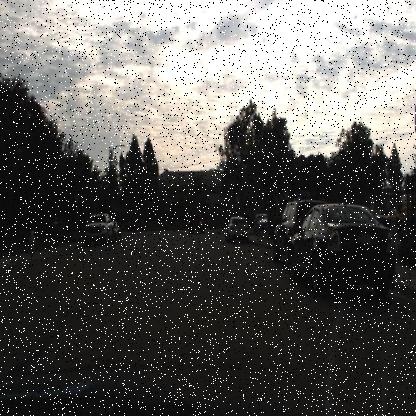car: (288, 200, 396, 294), (292, 197, 397, 292), (269, 197, 318, 277), (82, 211, 116, 250), (223, 212, 247, 246), (225, 214, 250, 243), (122, 211, 149, 232), (253, 211, 271, 239), (188, 210, 206, 237)
